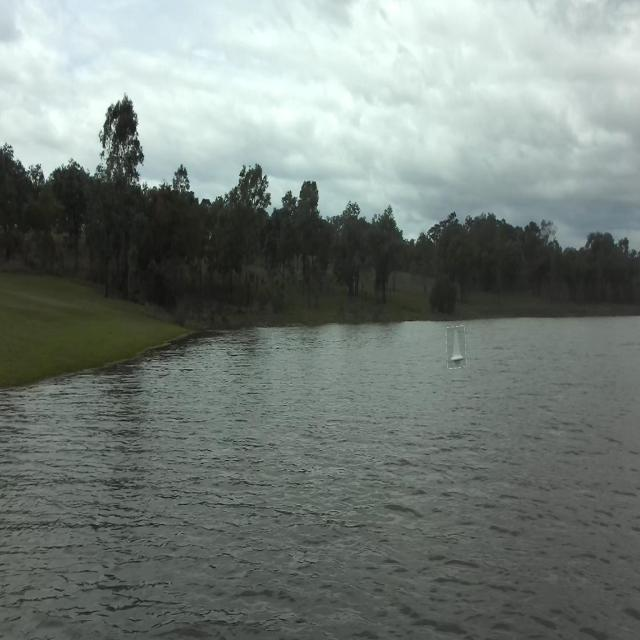White_Buoy: (446, 327, 465, 369)
